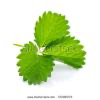Strawberry leaf: (14, 38, 55, 87), (43, 36, 91, 71), (33, 8, 72, 50)
